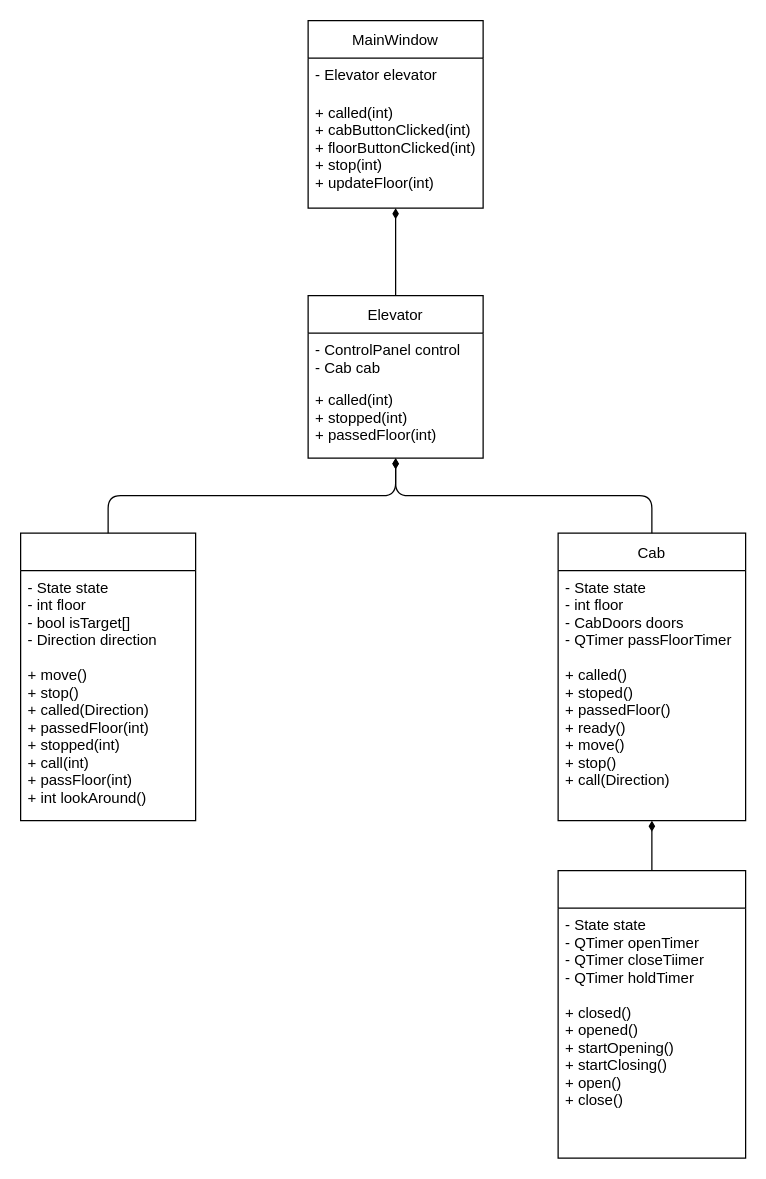
Some shapes in this 766 by 1179 pixel diagram are drawn without their labels. The box of each missing label's shape, as (x1, y1, x2, y2) in pixels:
CabDoors: (557, 869, 746, 1158)
ControlPanel: (19, 532, 196, 821)
